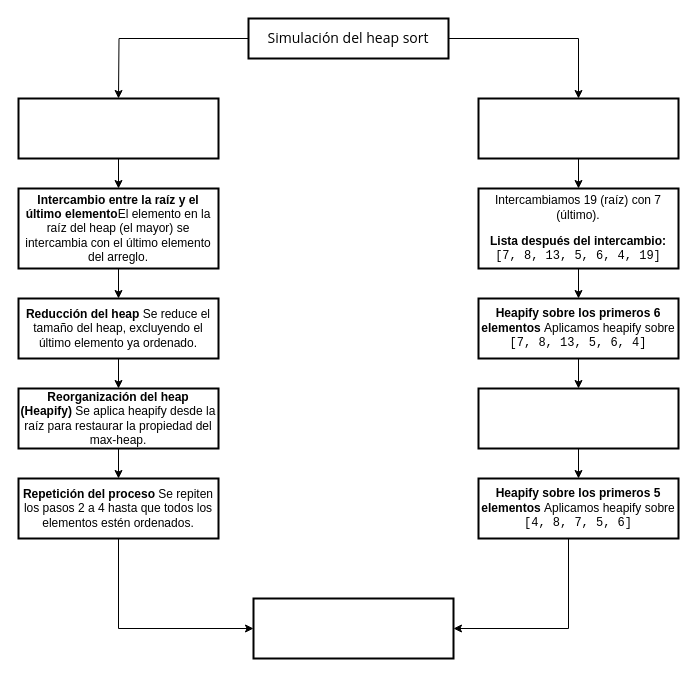
The diagram is 696 pixels wide and 676 high, and some of its shapes have lost their labels. Each missing label, with the centre of its shape:
"Construcción del Max-Heap Se parte de un arreglo desordenado." goes at (118,128).
"Intercambiamos 13 (índice 0) con 4 (índice 5) Lista: [4, 8, 7, 5, 6, 13, 19]" goes at (578,418).
"Lista original (desordenada) [13, 6, 4, 5, 8, 19, 7]" goes at (578,128).
"Resultado: [8, 6, 7, 5, 4, 13, 19]" goes at (353,628).
